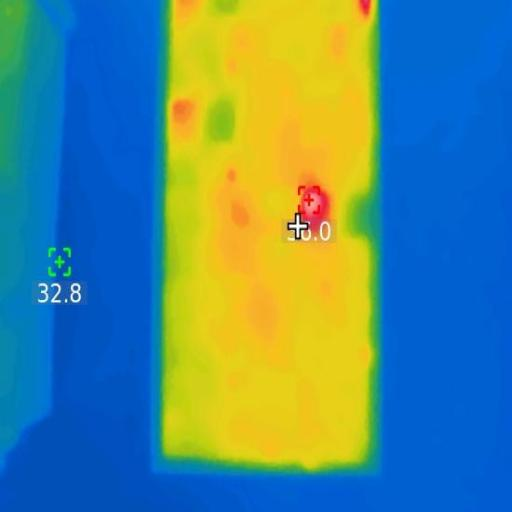hotspot: (300, 190, 330, 234)
